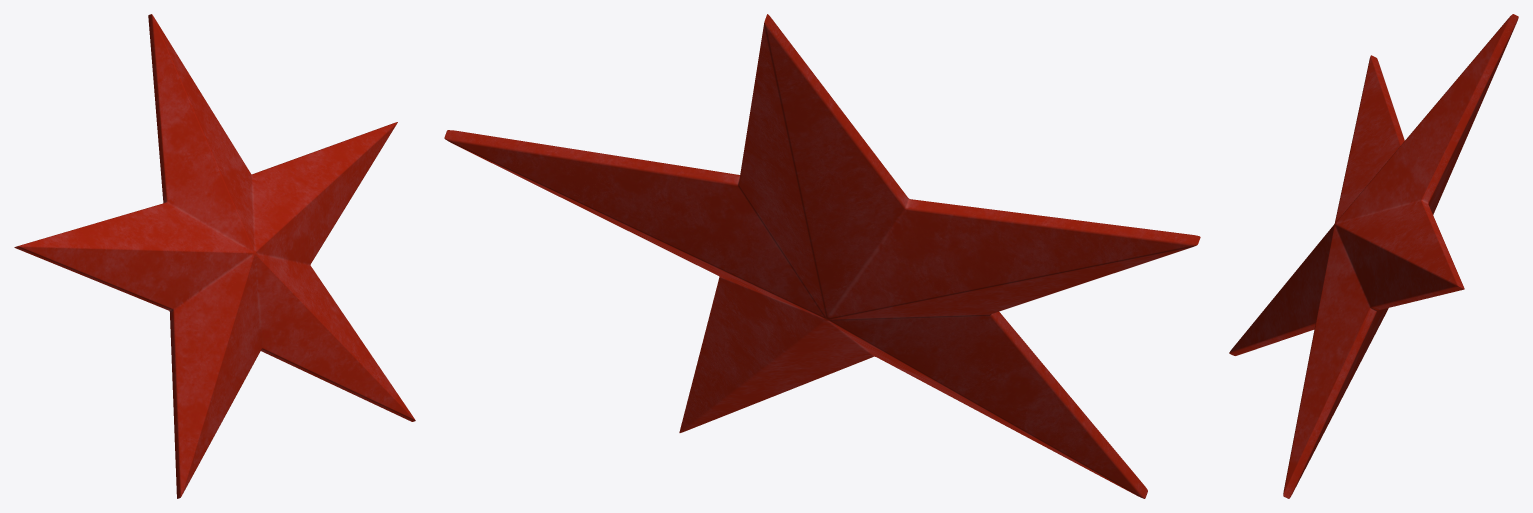
File: red_soviet_aluminium_star.glb
3 renders of one model, left to right at view 1: azimuth 30°, elevation 25°; view 2: azimuth 150°, elevation 25°; view 3: azimuth 270°, elevation 25°, orthographic. The views are drawn at different scales.
Parts seen in each view (by area): view 1: Star_0; view 2: Star_0; view 3: Star_0.
Boxes of the visible parts, box(x1,y1,x2,y2) form: Star_0: box(14, 14, 415, 498); Star_0: box(444, 14, 1200, 498); Star_0: box(1229, 14, 1518, 498).
Size of the model in its own units: 1.87 by 1.57 by 1.03.
Materials: 1 (1 with a texture image).
